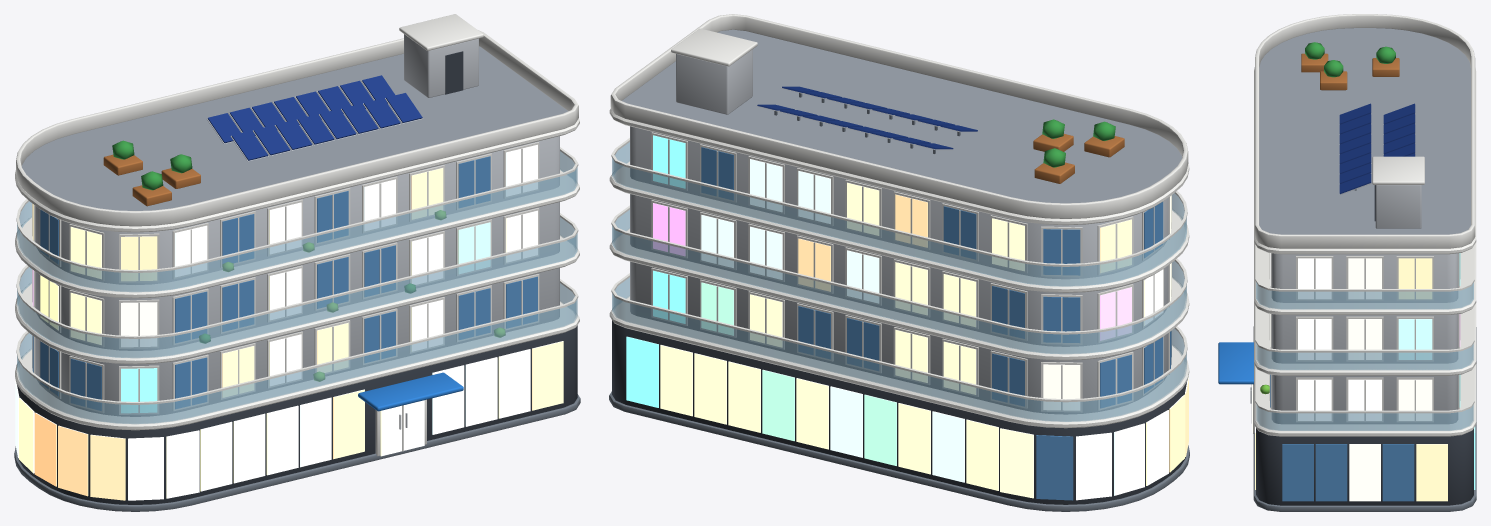
The model's file is predio_cinza_varandas.glb.
3 renders of one model, left to right at view 1: azimuth 30°, elevation 25°; view 2: azimuth 150°, elevation 25°; view 3: azimuth 270°, elevation 25°, orthographic. The views are drawn at different scales.
Parts seen in each view (by area): view 1: predio_cinza_varandas; view 2: predio_cinza_varandas; view 3: predio_cinza_varandas.
Part boxes in pixels (x1=…): predio_cinza_varandas: x1=14, y1=14, x2=580, y2=511; predio_cinza_varandas: x1=609, y1=14, x2=1189, y2=511; predio_cinza_varandas: x1=1218, y1=14, x2=1476, y2=511.
Size of the model in its own units: 25.24 by 16.38 by 12.32.
9 materials, 1 textured.
